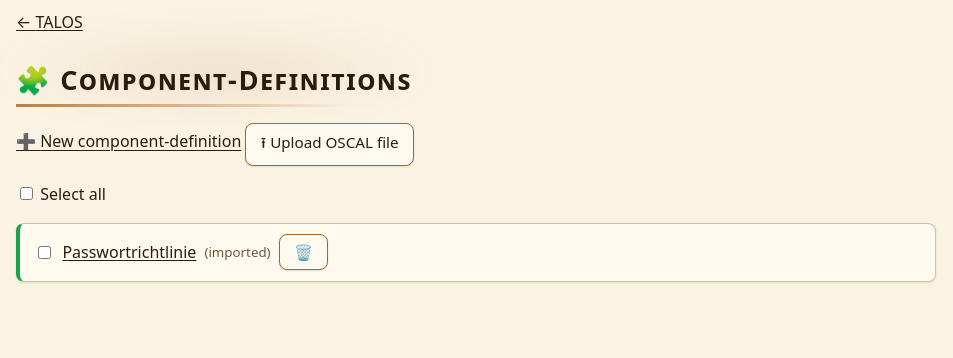
Test: bulk selection (ADR-0027) › toggles a row checkbox and shows/hides the bulk-actions bar
What coordinates should you click on to do the following:
click the checkbox with test id "compdef-select-item"
I would click on:
 (45, 252)
Its box is [38, 246, 51, 259].
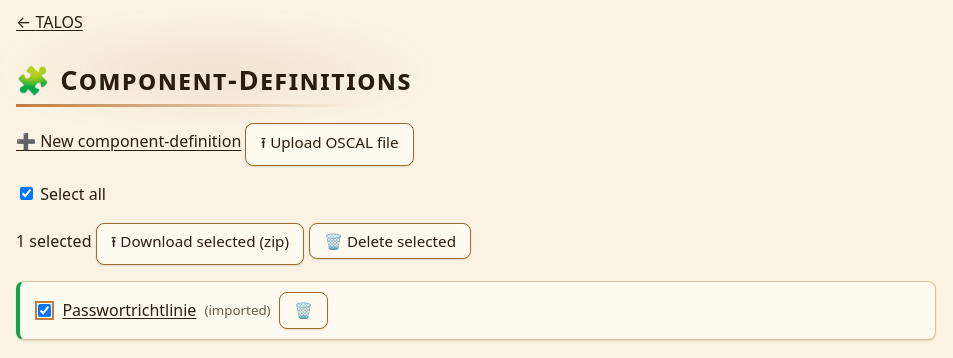
Result: the element with test id "compdef-bulk-actions" is shown at [16, 222, 471, 265]
Result: the text with test id "compdef-selected-count" shows "1" at [16, 230, 92, 252]
What coordinates should you click on to do the following:
click the checkbox with test id "compdef-select-item"
I would click on:
 (45, 310)
Its box is [38, 304, 51, 317].
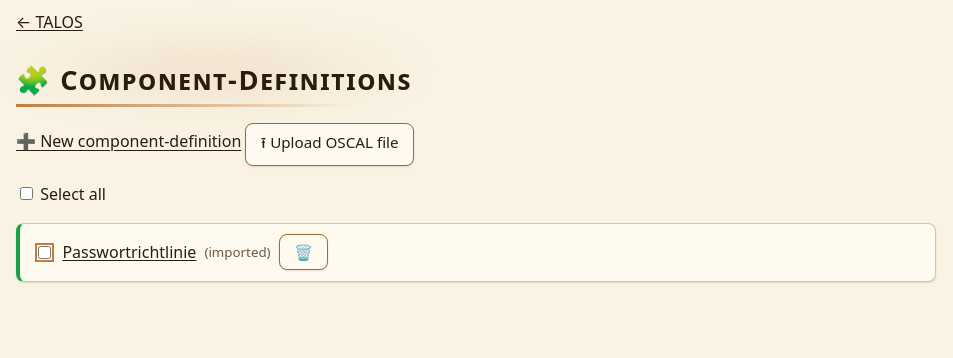
Result: the element with test id "compdef-bulk-actions" is gone
